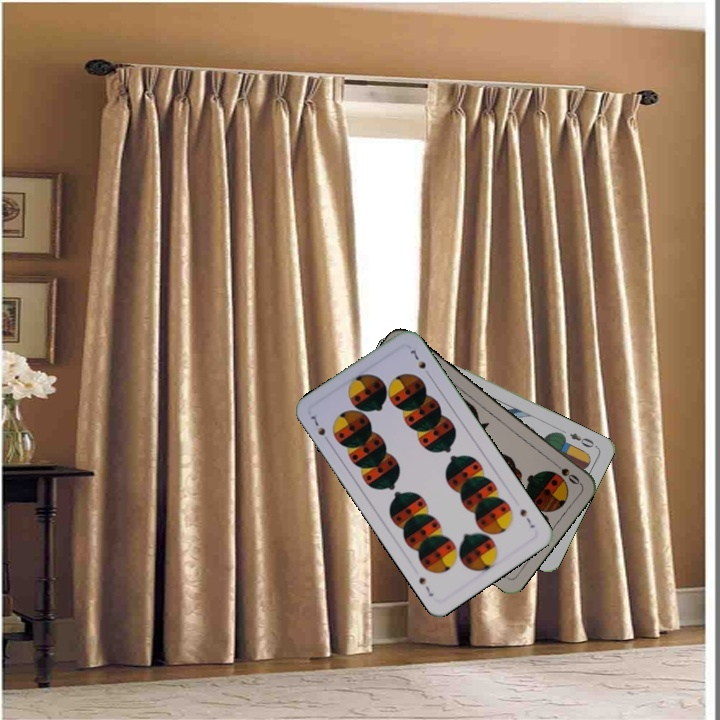EO: (565, 429, 600, 450)
S7: (306, 411, 333, 446), (516, 505, 537, 531)
SO: (548, 457, 582, 487)
